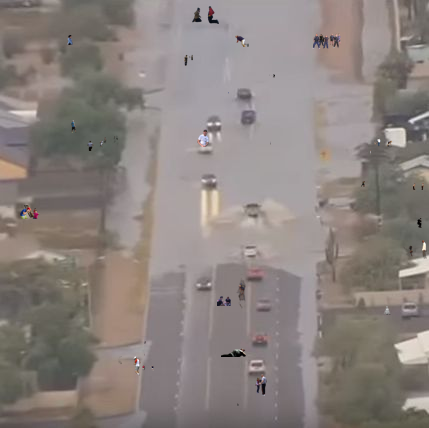Human: (71, 120, 111, 133), (87, 135, 119, 151), (403, 240, 428, 260), (192, 6, 219, 24), (312, 33, 342, 49), (118, 356, 141, 376), (236, 274, 249, 309), (20, 205, 40, 219), (255, 374, 267, 396), (221, 347, 246, 357), (197, 129, 209, 147), (374, 138, 392, 148), (235, 35, 249, 47), (217, 296, 231, 306), (184, 53, 193, 66), (413, 183, 424, 190), (142, 365, 154, 371), (383, 306, 391, 315), (67, 35, 73, 45), (417, 218, 422, 228), (269, 74, 275, 78), (361, 181, 365, 187), (237, 403, 239, 406), (144, 341, 146, 344), (370, 150, 371, 155), (270, 141, 271, 145), (144, 353, 145, 356), (228, 92, 229, 94)
